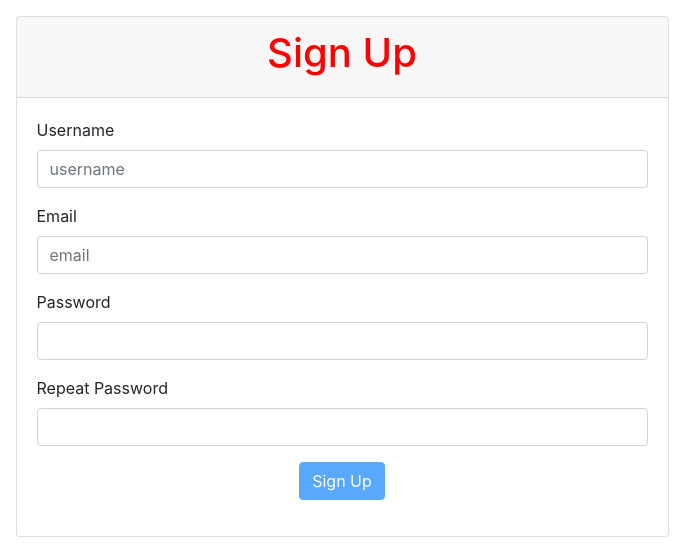
Test: sign up page › interactions › enables the button when the password & password repeat fields have the same value
This screenshot has width=686, height=554.
Type "Password123" into the password field labelled "Password". click: (342, 341)
box: 36,322 -> 648,360
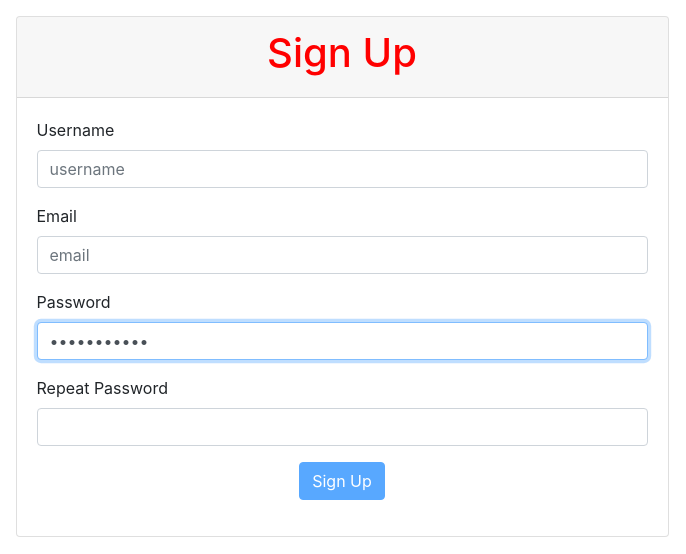
Type "Password123" into the password field labelled "Repeat Password". click: (342, 427)
box: 36,408 -> 648,446
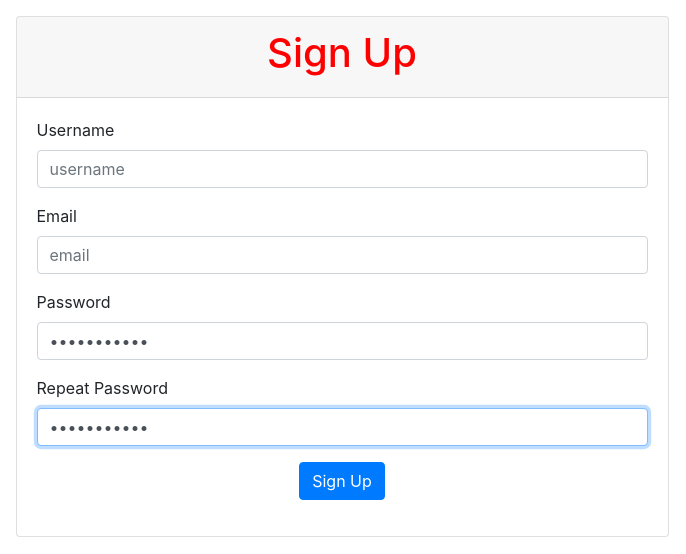
Now the button "Sign Up" is enabled, box 299,462 -> 385,500
